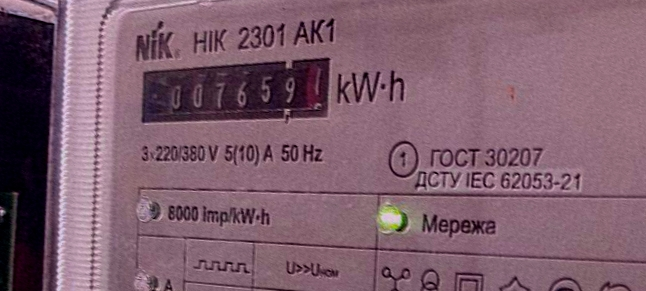0: (190, 81, 206, 110), (169, 81, 184, 110)
1: (310, 66, 325, 98)
5: (257, 73, 275, 106)
6: (234, 78, 250, 110)
7: (211, 78, 228, 111)
9: (281, 72, 299, 108)
screen: (124, 32, 353, 149)
